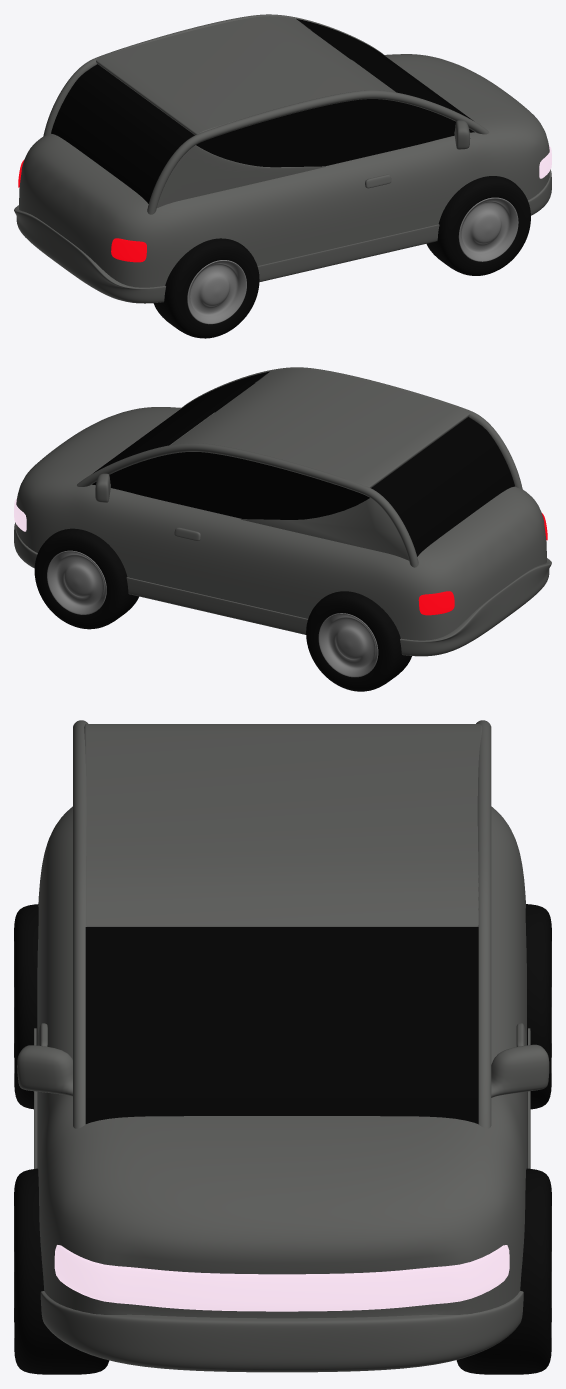
Rendered from driver_car_3d.glb.
3 renders of one model, top to bottom at view 1: azimuth 30°, elevation 25°; view 2: azimuth 150°, elevation 25°; view 3: azimuth 270°, elevation 25°, orthographic. The views are drawn at different scales.
Visible parts, largest first — view 1: Cube.022, BezierCurve.010, Plane.010, BezierCurve.012, Cube.023, BezierCurve.014, sedan_fl.020, sedan_fl.023, Plane.006, sedan_fl.024, sedan_fl.019, BezierCurve.011 (+2 smaller); view 2: Cube.022, BezierCurve.010, Plane.008, BezierCurve.012, Cube.023, BezierCurve.014, sedan_fl.018, sedan_fl.022, Plane.009, sedan_fl.021, sedan_fl.017, BezierCurve.011 (+2 smaller); view 3: Cube.022, BezierCurve.010, BezierCurve.011, Cube.023, Cube.018, BezierCurve.014, sedan_fl.022, sedan_fl.023, sedan_fl.018, sedan_fl.020, Cube.020, Cube.024.
Part boxes in pixels (<box>): Cube.022: <box>19,54,549,287</box>; BezierCurve.010: <box>96,16,394,135</box>; Plane.010: <box>196,99,474,167</box>; BezierCurve.012: <box>51,64,194,203</box>; Cube.023: <box>14,169,551,303</box>; BezierCurve.014: <box>43,14,489,214</box>; sedan_fl.020: <box>153,238,259,338</box>; sedan_fl.023: <box>426,176,530,275</box>; Plane.006: <box>157,145,326,207</box>; sedan_fl.024: <box>458,197,518,261</box>; sedan_fl.019: <box>187,260,246,324</box>; BezierCurve.011: <box>296,18,473,120</box>; Cube.022: <box>16,407,546,640</box>; BezierCurve.010: <box>171,369,469,487</box>; Plane.008: <box>92,452,369,519</box>; BezierCurve.012: <box>371,417,514,556</box>; Cube.023: <box>14,522,551,656</box>; BezierCurve.014: <box>77,367,522,567</box>; sedan_fl.018: <box>306,591,411,691</box>; sedan_fl.022: <box>34,528,138,629</box>; Plane.009: <box>241,498,408,560</box>; sedan_fl.021: <box>47,550,106,614</box>; sedan_fl.017: <box>318,613,378,677</box>; BezierCurve.011: <box>93,371,269,473</box>; Cube.022: <box>37,806,526,1318</box>; BezierCurve.010: <box>84,724,482,926</box>; BezierCurve.011: <box>85,927,478,1124</box>; Cube.023: <box>34,1028,530,1372</box>; Cube.018: <box>54,1245,509,1311</box>; BezierCurve.014: <box>73,720,491,1128</box>; sedan_fl.022: <box>456,1168,551,1374</box>; sedan_fl.023: <box>14,1168,109,1374</box>; sedan_fl.018: <box>525,904,551,1109</box>; sedan_fl.020: <box>14,904,38,1109</box>; Cube.020: <box>491,1044,549,1097</box>; Cube.024: <box>17,1045,72,1096</box>.
Bounding box in the file's own units: 6.54 × 2.76 × 3.39.
